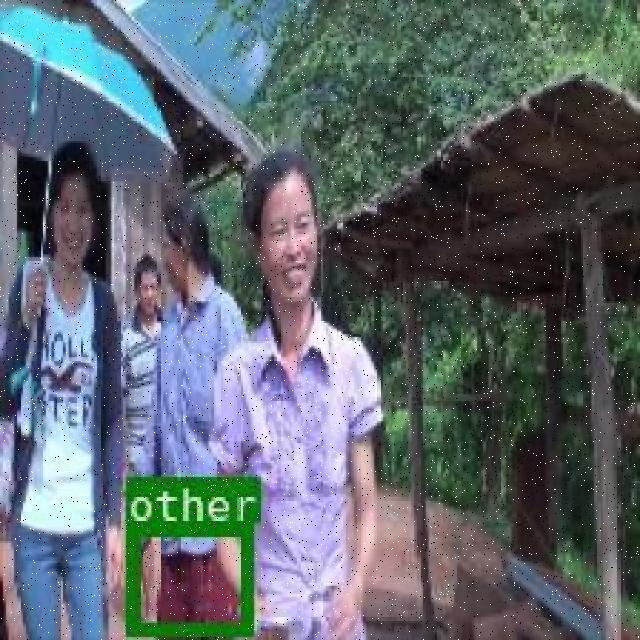Smoke: (123, 520, 251, 634)
